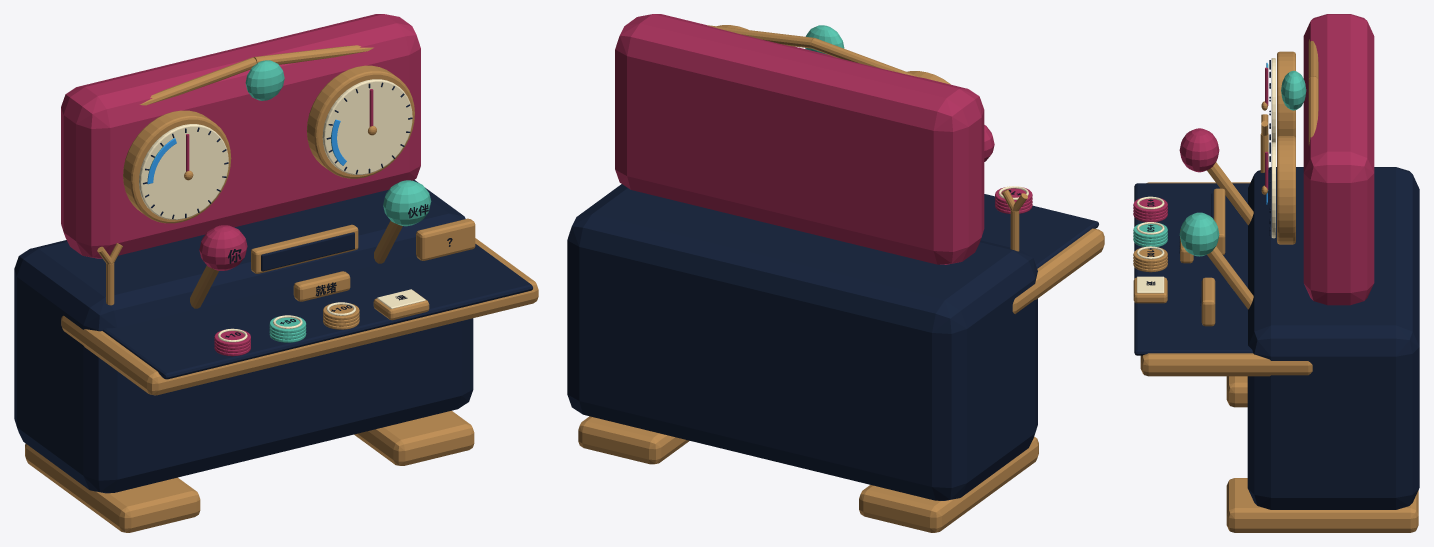
The model's file is S1Levers.fbx.
3 renders of one model, left to right at view 1: azimuth 30°, elevation 25°; view 2: azimuth 150°, elevation 25°; view 3: azimuth 270°, elevation 25°, orthographic. The views are drawn at different scales.
Visible parts, largest first — view 1: S1Levers.Mesh, CooperativeLevers.TimingFace1.Mesh, CooperativeLevers.TimingFace0.Mesh, StatePlaque.002.Mesh, CooperativeLevers.RulePlate.Mesh, CooperativeLevers.NpcHandle.Mesh, CooperativeLevers.PlayerHandle.Mesh, S1Levers.SyncBulb, CooperativeLevers.ClearPlate.Mesh, CooperativeLevers.StartPlate.Mesh, CooperativeLevers.Chip50.Mesh, CooperativeLevers.Chip100.Mesh (+2 smaller); view 2: S1Levers.Mesh, CooperativeLevers.HelpWrench.Mesh, CooperativeLevers.Chip10.Mesh; view 3: S1Levers.Mesh, CooperativeLevers.TimingFace1.Mesh, CooperativeLevers.TimingFace0.Mesh, CooperativeLevers.NpcHandle.Mesh, CooperativeLevers.PlayerHandle.Mesh, CooperativeLevers.ClearPlate.Mesh, S1Levers.Lever1, S1Levers.Lever0, CooperativeLevers.Chip100.Mesh, S1Levers.SyncBulb, CooperativeLevers.Chip10.Mesh, CooperativeLevers.Chip50.Mesh (+3 smaller).
Boxes of the visible parts, bbox=[...] form: S1Levers.Mesh: bbox=[14, 14, 538, 532]; CooperativeLevers.TimingFace1.Mesh: bbox=[306, 65, 414, 178]; CooperativeLevers.TimingFace0.Mesh: bbox=[123, 110, 231, 223]; StatePlaque.002.Mesh: bbox=[251, 224, 358, 273]; CooperativeLevers.RulePlate.Mesh: bbox=[416, 218, 475, 260]; CooperativeLevers.NpcHandle.Mesh: bbox=[383, 180, 431, 226]; CooperativeLevers.PlayerHandle.Mesh: bbox=[199, 225, 247, 270]; S1Levers.SyncBulb: bbox=[245, 60, 284, 100]; CooperativeLevers.ClearPlate.Mesh: bbox=[373, 289, 429, 320]; CooperativeLevers.StartPlate.Mesh: bbox=[293, 271, 350, 301]; CooperativeLevers.Chip50.Mesh: bbox=[269, 315, 306, 342]; CooperativeLevers.Chip100.Mesh: bbox=[323, 302, 359, 329]; S1Levers.Mesh: bbox=[567, 14, 1104, 532]; CooperativeLevers.HelpWrench.Mesh: bbox=[1002, 189, 1027, 251]; CooperativeLevers.Chip10.Mesh: bbox=[995, 186, 1032, 213]; S1Levers.Mesh: bbox=[1134, 14, 1419, 532]; CooperativeLevers.TimingFace1.Mesh: bbox=[1269, 136, 1295, 244]; CooperativeLevers.TimingFace0.Mesh: bbox=[1269, 51, 1295, 144]; CooperativeLevers.NpcHandle.Mesh: bbox=[1179, 212, 1219, 256]; CooperativeLevers.PlayerHandle.Mesh: bbox=[1179, 128, 1219, 172]; CooperativeLevers.ClearPlate.Mesh: bbox=[1133, 276, 1167, 303]; S1Levers.Lever1: bbox=[1207, 246, 1253, 309]; S1Levers.Lever0: bbox=[1207, 162, 1253, 225]; CooperativeLevers.Chip100.Mesh: bbox=[1133, 246, 1167, 272]; S1Levers.SyncBulb: bbox=[1281, 70, 1306, 110]; CooperativeLevers.Chip10.Mesh: bbox=[1133, 196, 1167, 222]; CooperativeLevers.Chip50.Mesh: bbox=[1133, 222, 1167, 246].
Size of the model in its own units: 234 by 233 by 158.
